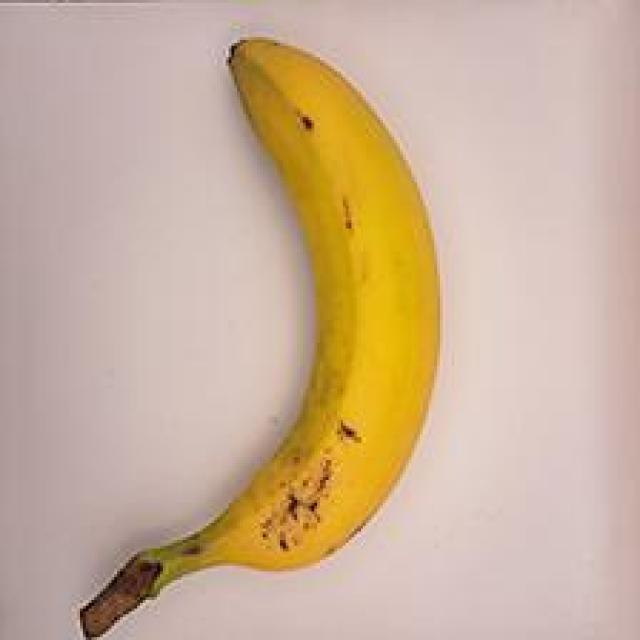ripe: (40, 37, 466, 640)
